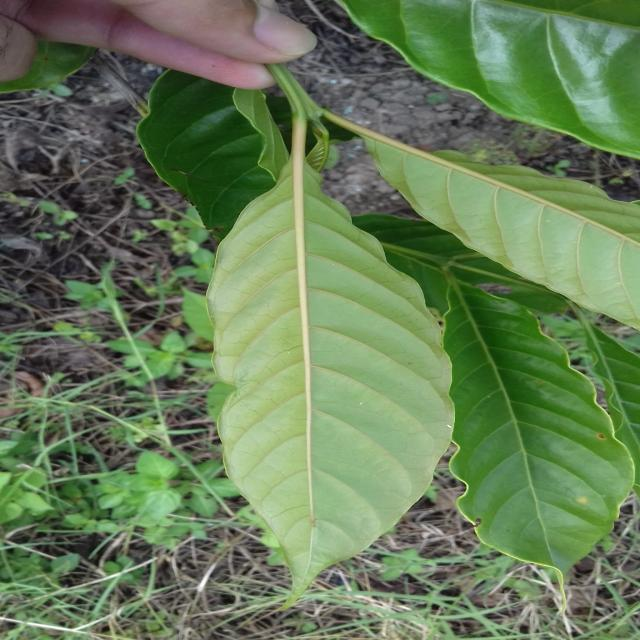Sanas: (208, 142, 455, 594)
